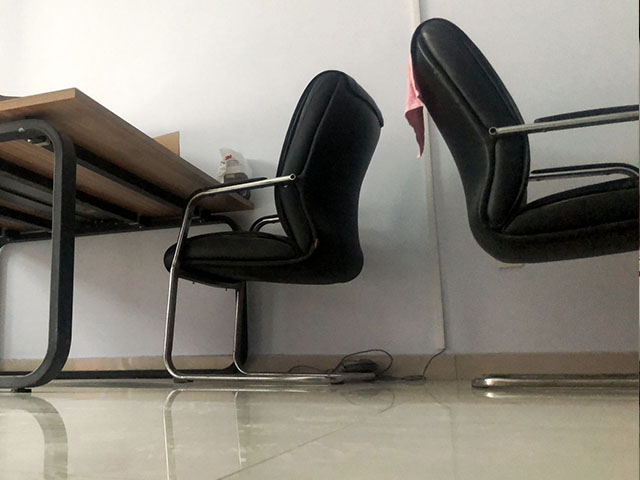stool: (408, 16, 640, 391), (160, 68, 386, 388)
table: (1, 82, 255, 395)
wire: (285, 349, 448, 383)
